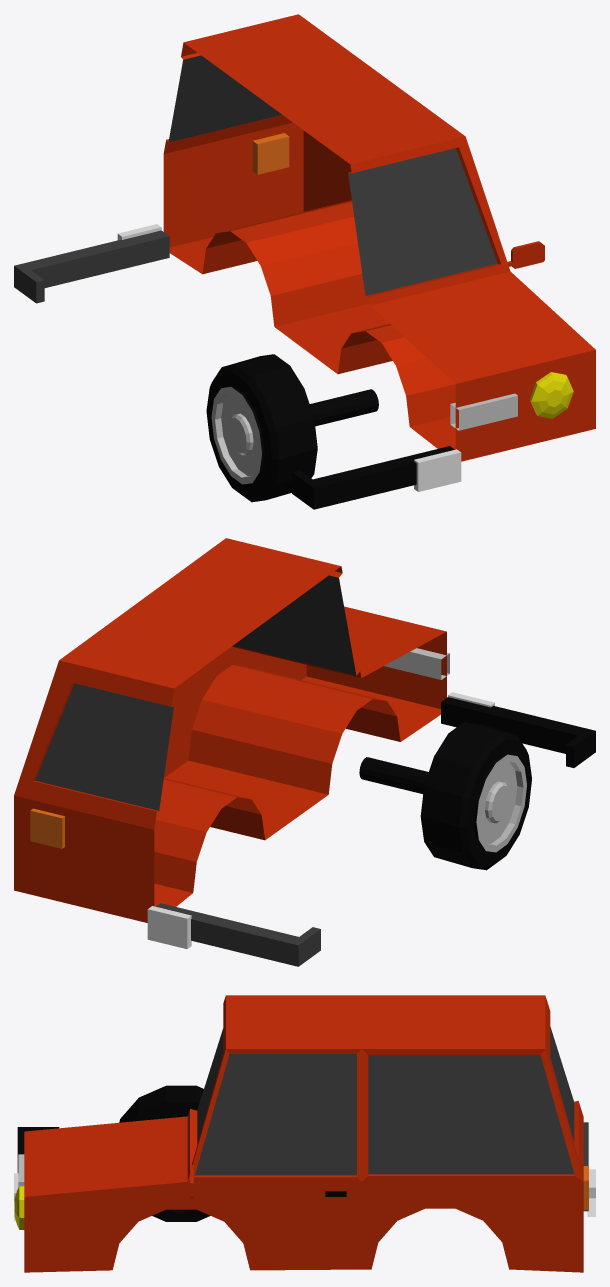
File: carro.glb
3 renders of one model, top to bottom at view 1: azimuth 30°, elevation 25°; view 2: azimuth 150°, elevation 25°; view 3: azimuth 270°, elevation 25°, orthographic. The views are drawn at different scales.
Visible parts, largest first — view 1: Plane, Cylinder; view 2: Plane, Cylinder; view 3: Plane, Cylinder.
Part boxes in pixels (left/top/right/bottom): Plane: left=14, top=14, right=595, bottom=509; Cylinder: left=206, top=354, right=378, bottom=502; Plane: left=14, top=538, right=595, bottom=966; Cylinder: left=359, top=722, right=531, bottom=870; Plane: left=14, top=995, right=595, bottom=1272; Cylinder: left=119, top=1085, right=210, bottom=1221.
Size of the model in its own units: 3.05 by 2.56 by 4.98.
